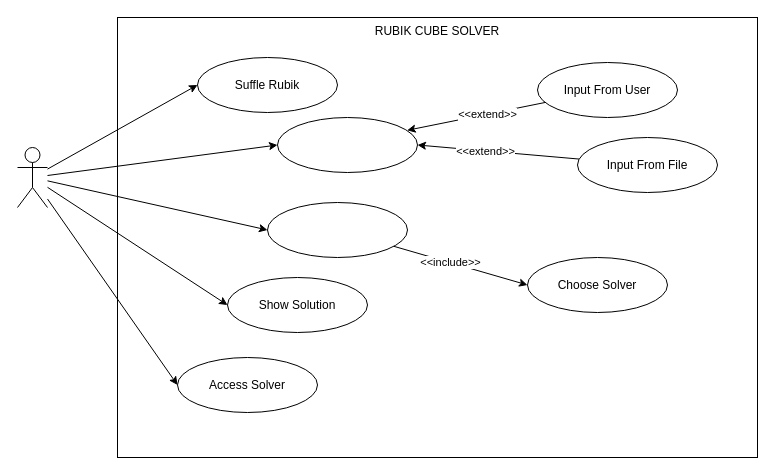
Image size: 775x475. Some labels were removed from this diagram. Each missing label, with the centre of its shape:
"Input Rubik Cube" goes at (x=347, y=144).
"Solve Rubik" goes at (x=337, y=230).
"User" goes at (x=32, y=177).
